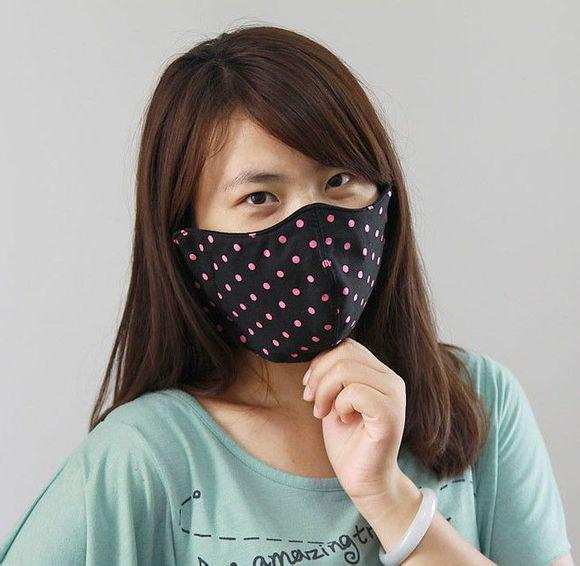OK: (169, 129, 394, 354)
